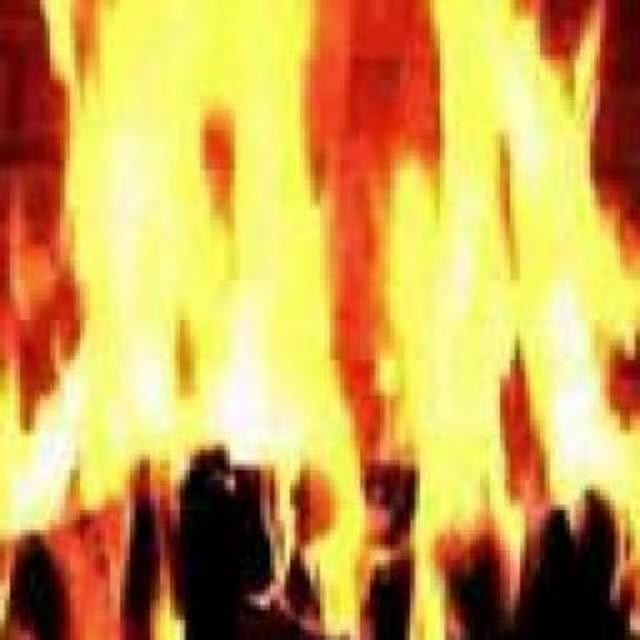fire: (0, 0, 640, 640), (125, 0, 640, 624)
